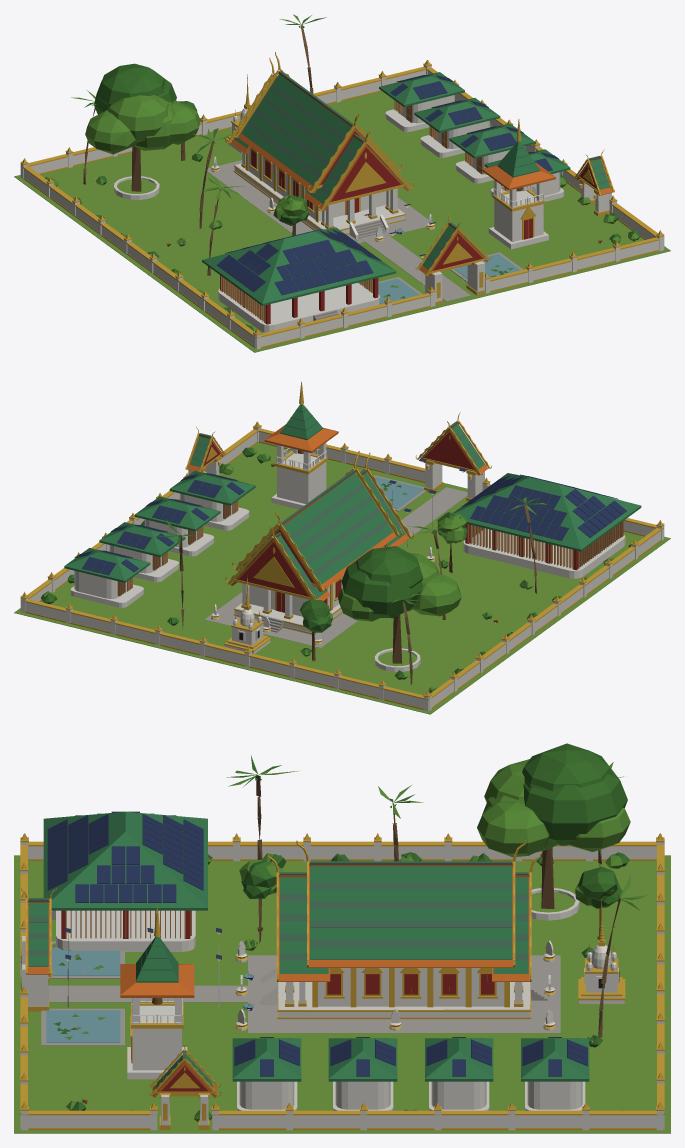
Rendered from temple_2.glb.
3 renders of one model, top to bottom at view 1: azimuth 30°, elevation 25°; view 2: azimuth 150°, elevation 25°; view 3: azimuth 270°, elevation 25°, orthographic. The views are drawn at different scales.
Visible parts, largest first — view 1: body; view 2: body; view 3: body.
Boxes of the visible parts, bbox=[...] form: body: bbox=[14, 14, 670, 352]; body: bbox=[14, 381, 670, 714]; body: bbox=[14, 743, 670, 1133].
Bounding box in the file's own units: 47.9 × 13.26 × 47.9.
